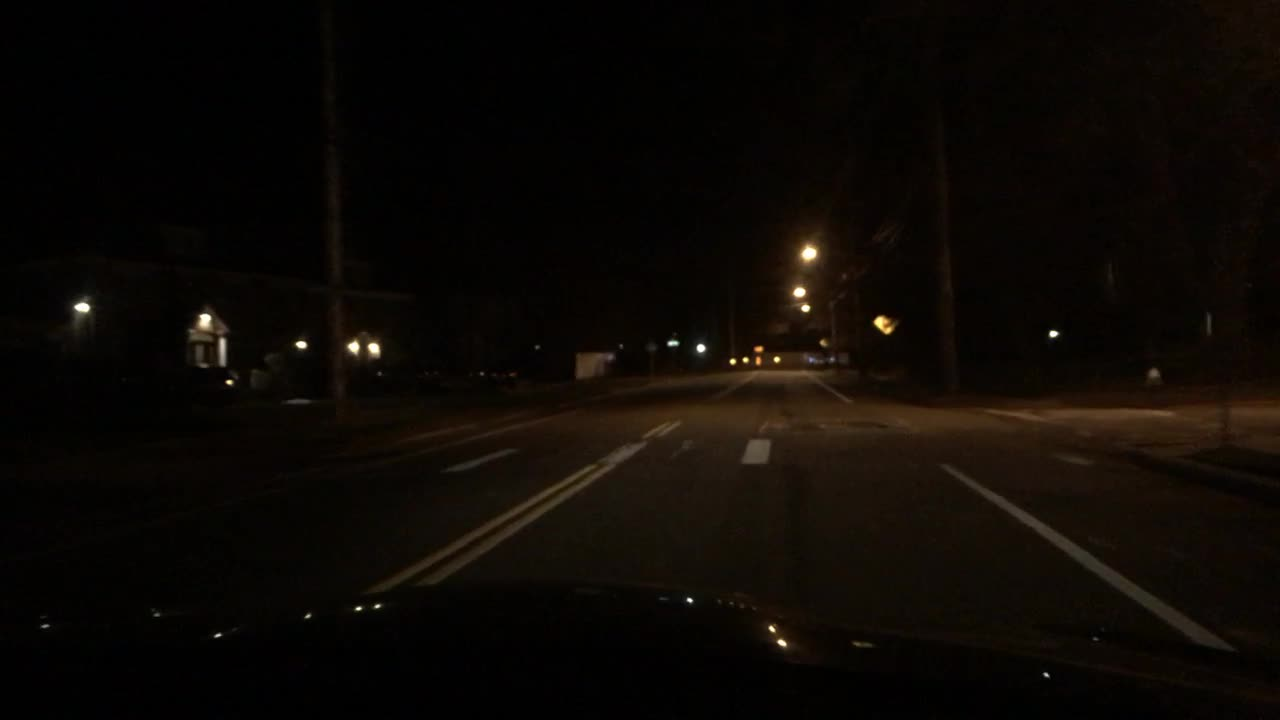car: (118, 361, 241, 408), (376, 356, 437, 388), (465, 361, 518, 386)
traffic sign: (872, 305, 897, 333)
